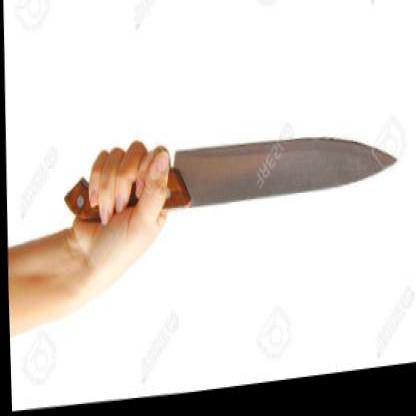knife: (87, 105, 404, 272)
